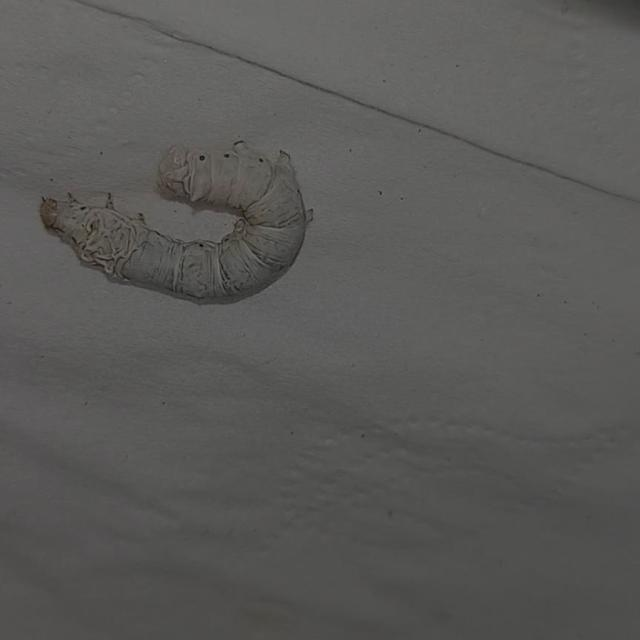Healthy: (18, 94, 353, 323)
